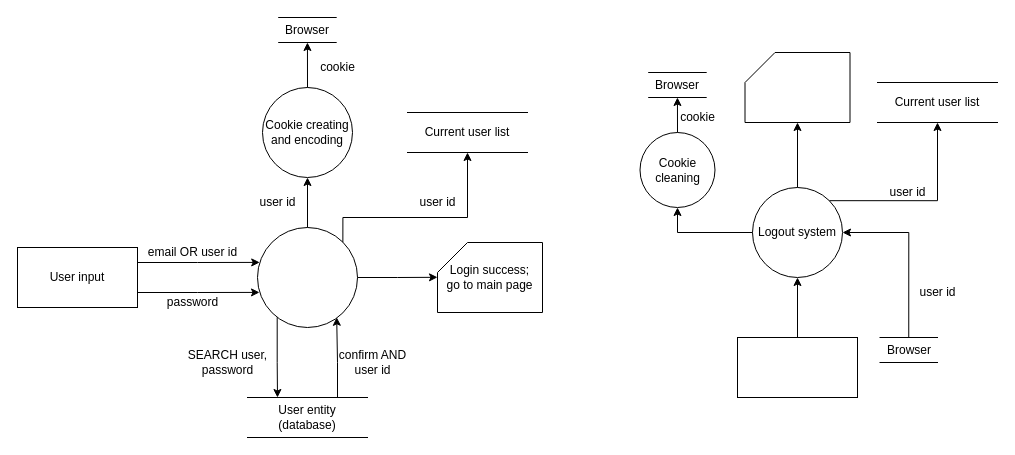
Some shapes in this 1015 by 455 pixel diagram are drawn without their labels. The shapes that lost their labels are listed below. From the top down, each one's centre as x and y in pixels, then its label:
At point 797,87: "Logout success; go to main page".
At point 307,277: "Authentication System".
At point 797,367: "Logout button".
